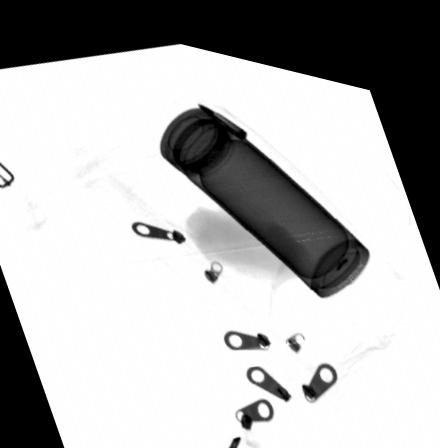Bullet: (195, 93, 249, 130)
